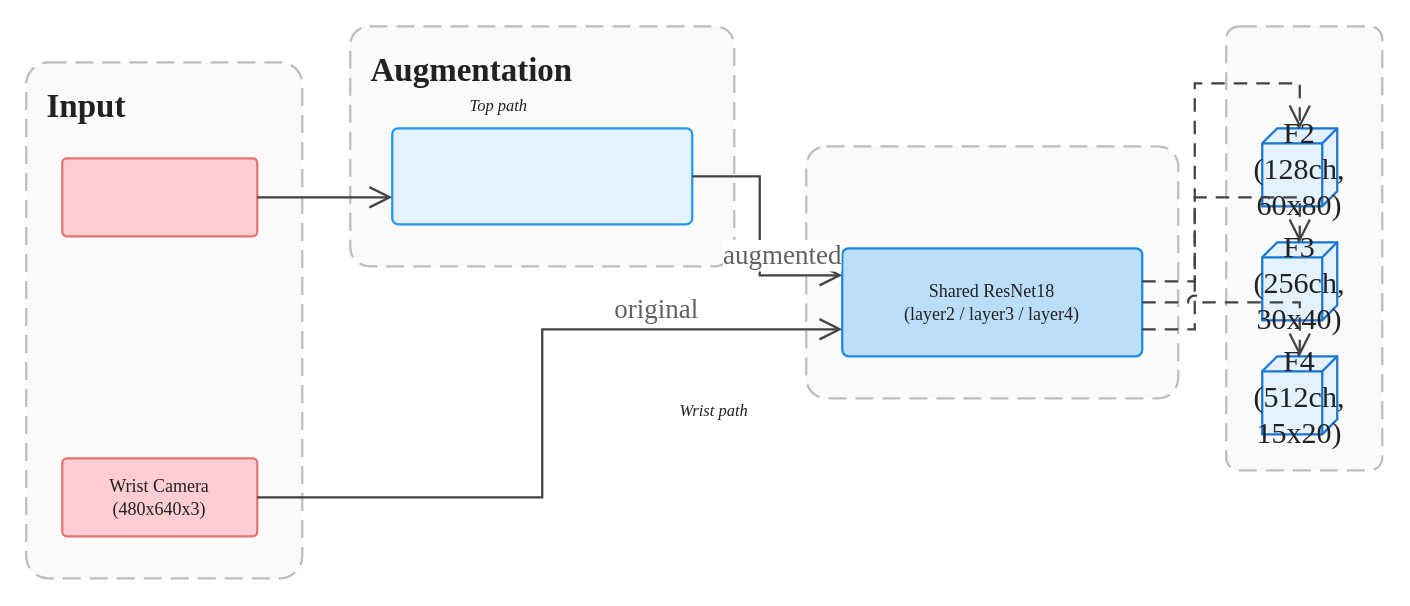
Image size: 1410x606. Some labels were removed from this diagram. Each missing label, with the box of its shape:
Data Augmentation Color / Noise / Occlusion (Training Only): (390, 126, 693, 225)
Multi-Scale Features: (1224, 24, 1383, 471)
Shared Backbone: (804, 144, 1179, 399)
Top Camera (480x640x3): (60, 156, 258, 237)
